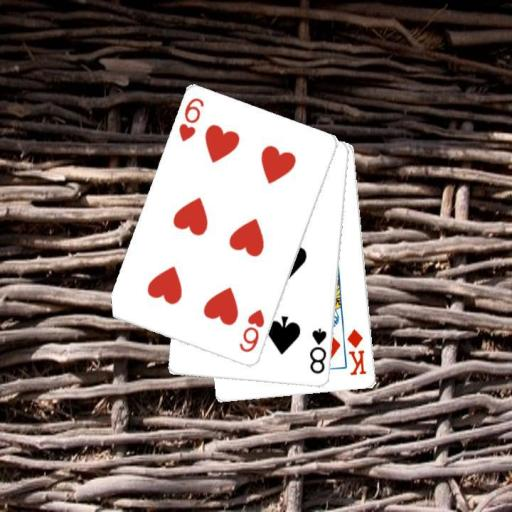6H: (176, 95, 206, 144), (236, 307, 267, 354)
8S: (307, 325, 329, 375)
KD: (345, 326, 369, 378)
